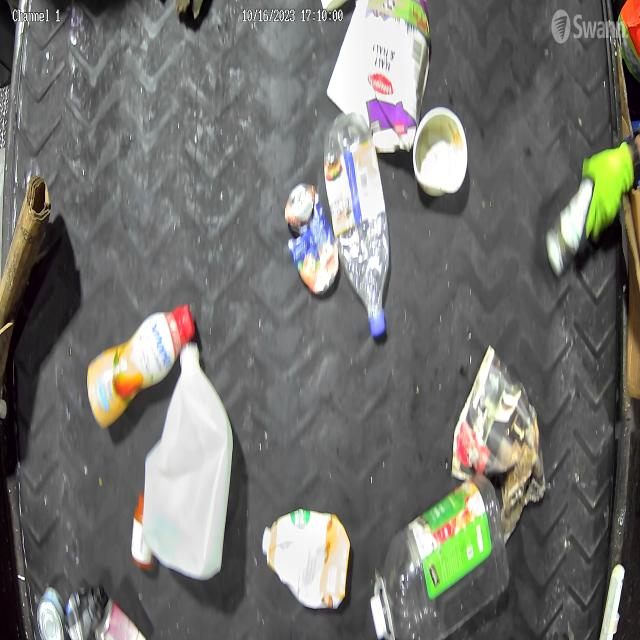can: (285, 179, 336, 292), (34, 583, 65, 638)
milk_jug: (144, 360, 233, 583)
plastic_bottle: (367, 482, 512, 640), (324, 108, 396, 330)
